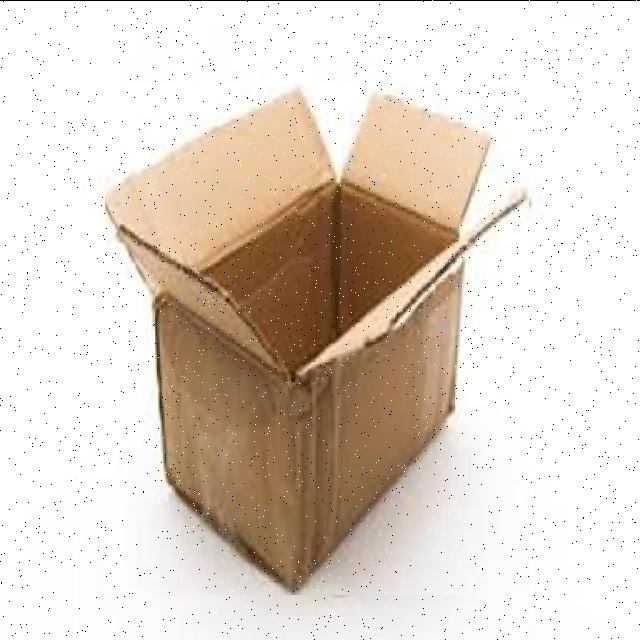defect: (105, 83, 529, 594)
